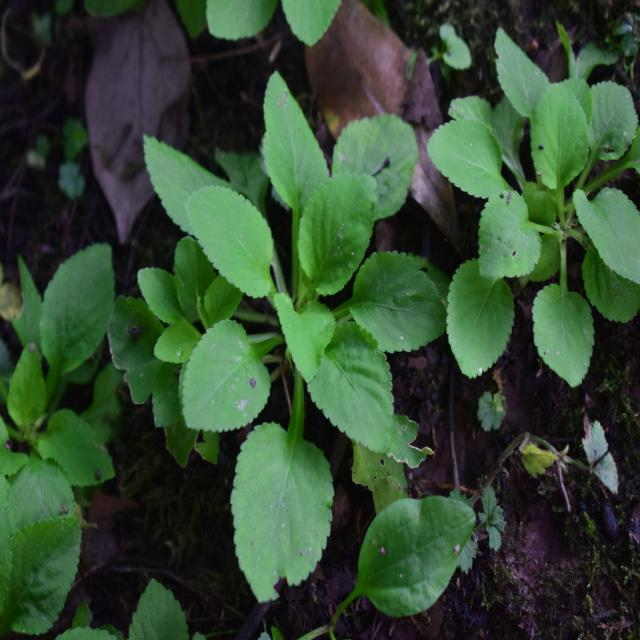Viola: (160, 112, 444, 508), (431, 49, 640, 404)
